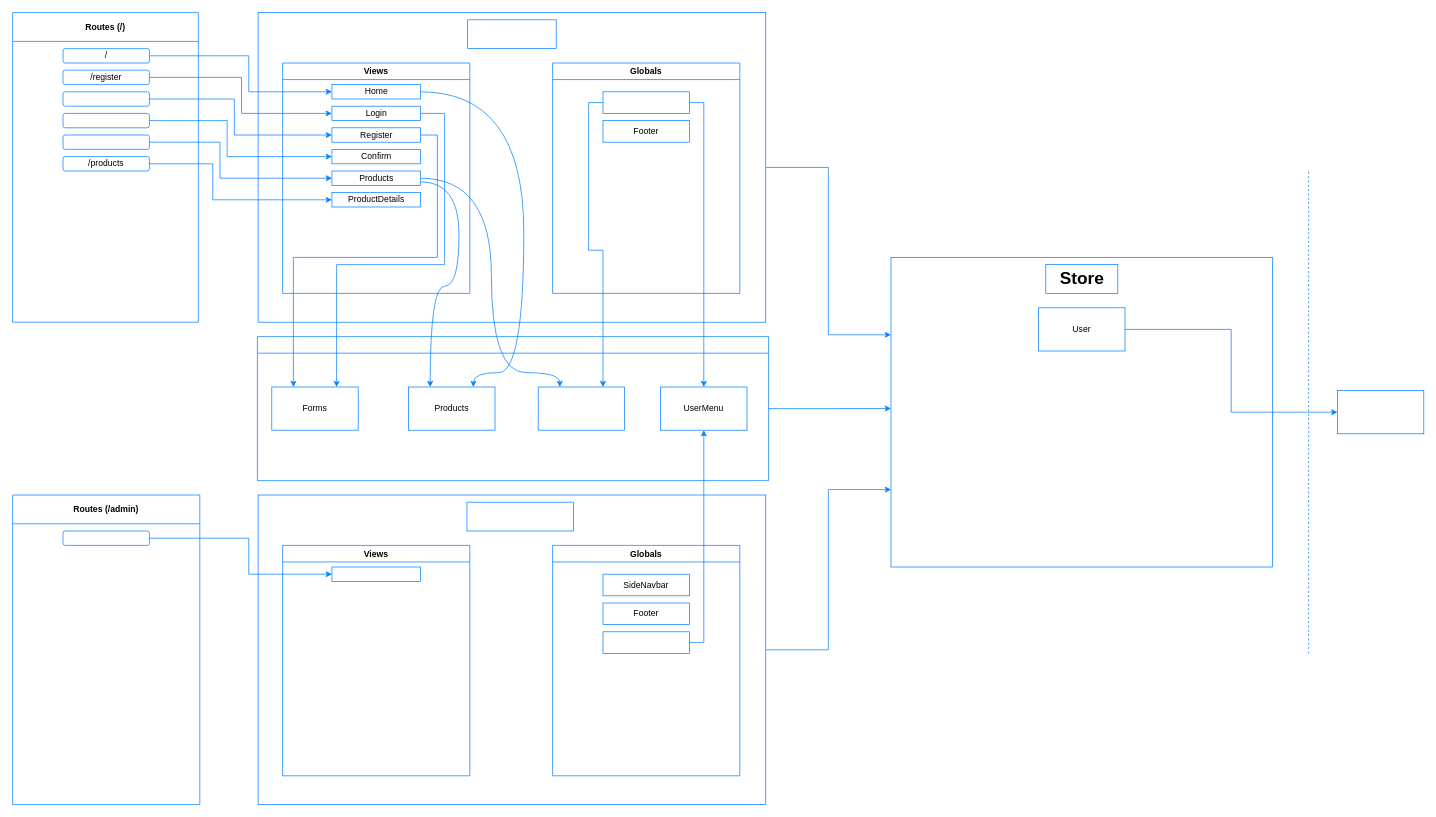
The diagram is 1436 pixels wide and 817 high, and some of its shapes have lost their labels. Here are the shapes that lost their labels. From the top down, the box of each, then its label:
(467, 19, 556, 49): Shop Cont
(62, 91, 149, 106): /login
(602, 91, 689, 113): Navbar
(62, 113, 149, 128): /confirm
(62, 134, 149, 149): /product/:id
(257, 336, 769, 481): Components
(537, 386, 625, 430): Products Filters
(1337, 390, 1424, 434): API
(466, 501, 573, 531): Admin Cont
(62, 530, 149, 545): /mang-products
(331, 566, 420, 581): ProductsMang
(602, 631, 689, 653): AdminNavBar
